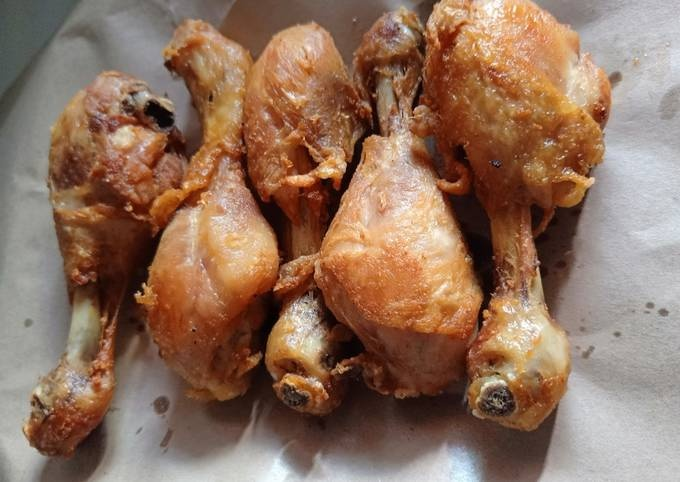ayam_goreng: (423, 7, 631, 440), (314, 7, 491, 414), (22, 65, 188, 460), (225, 12, 384, 421), (138, 11, 293, 407)
